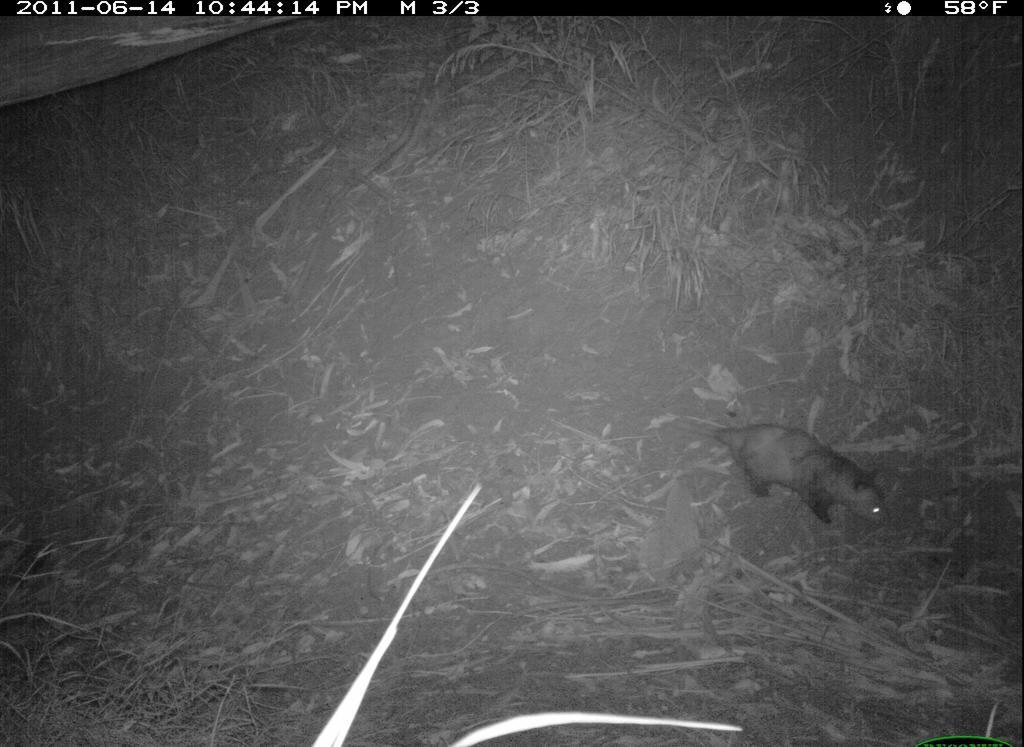opossum: (696, 403, 914, 546)
